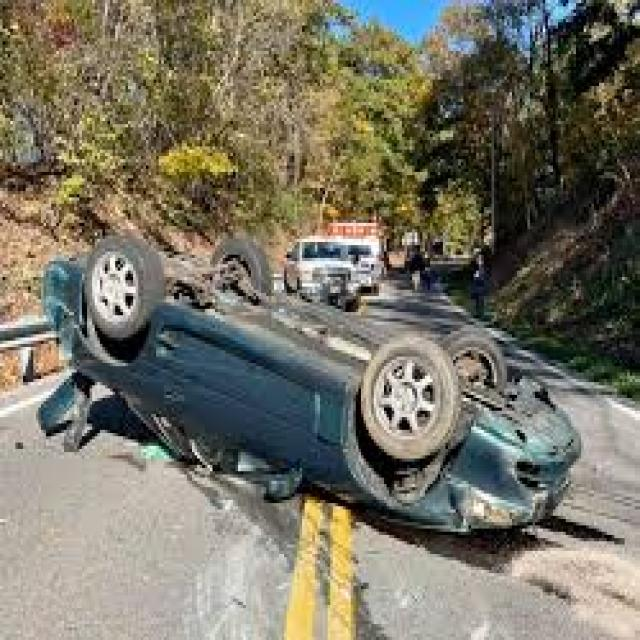accident: (31, 206, 598, 581)
